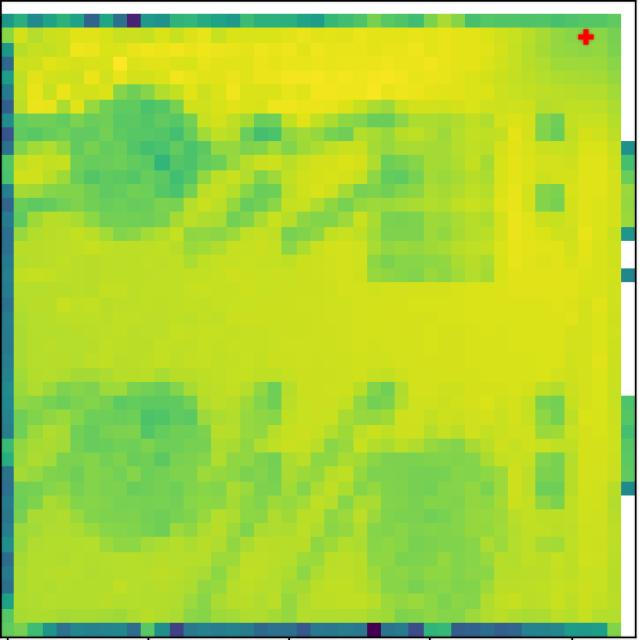Concrete: (60, 60, 242, 296)
Glass: (321, 394, 510, 630)
Metal: (38, 370, 232, 554)
Wood: (352, 86, 522, 314)
